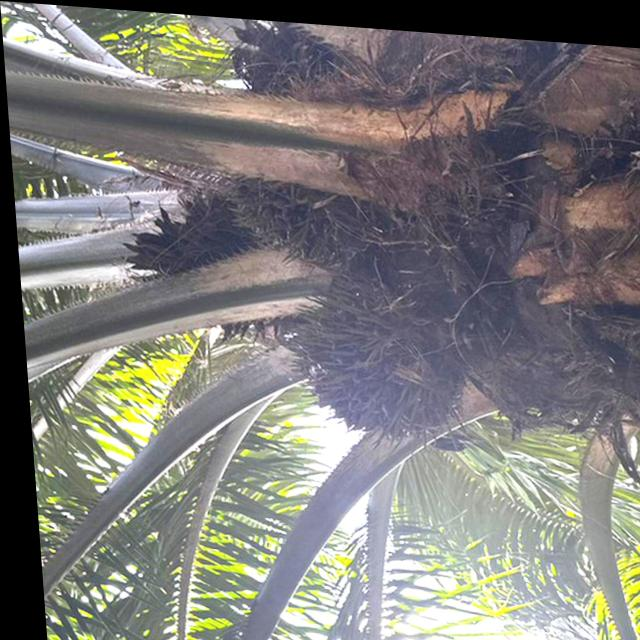ripe: (260, 248, 475, 451)
